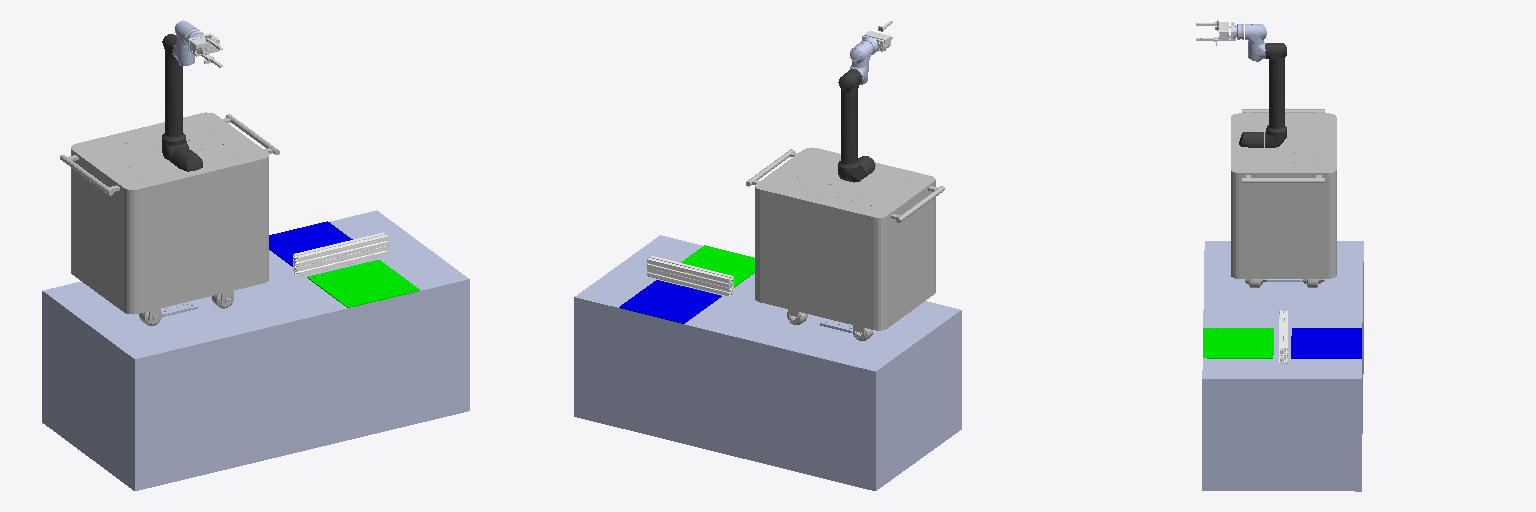
URDF robot description (keti_robot_description):
<?xml version="1.0" encoding="utf-8" ?>
<!-- This URDF was automatically created by SolidWorks to URDF Exporter! Originally created by [author] ([email redacted]) 
     Commit Version: 1.6.0-4-g7f85cfe  Build Version: 1.6.7995.38578
     For more information, please see http://wiki.ros.org/sw_urdf_exporter -->
<robot name="keti_robot_description">
    <link name="base_link">
        <inertial>
            <origin xyz="-3.36085209448091E-05 0.000287133945830102 0.0438378188701482" rpy="0 0 0" />
            <mass value="2.2521398120105" />
            <inertia ixx="0.00610179258303705" ixy="5.05489141748032E-06" ixz="-2.06579698345411E-06" iyy="0.00603383821255677" iyz="-2.85749716627364E-06" izz="0.0086064928113372" />
        </inertial>
        <visual>
            <origin xyz="0 0 0" rpy="0 0 0" />
            <geometry>
                <mesh filename="package://keti_robot_description/meshes/base_link.STL" />
            </geometry>
            <material name="">
                <color rgba="0.8 0.8 0.8 1" />
            </material>
        </visual>
        <collision>
            <origin xyz="0 0 0" rpy="0 0 0" />
            <geometry>
                <mesh filename="package://keti_robot_description/meshes/base_link.STL" />
            </geometry>
        </collision>
    </link>
    <link name="link1">
        <inertial>
            <origin xyz="-0.000155570349547256 -0.0115300094964011 0.185903083989741" rpy="0 0 0" />
            <mass value="3.38715574374258" />
            <inertia ixx="0.00965712431607013" ixy="2.56211525076845E-06" ixz="-2.07308619063588E-06" iyy="0.00999757655610851" iyz="0.00227412857483655" izz="0.0098539484036096" />
        </inertial>
        <visual>
            <origin xyz="0 0 0" rpy="0 0 0" />
            <geometry>
                <mesh filename="package://keti_robot_description/meshes/link1.STL" />
            </geometry>
            <material name="">
                <color rgba="0.792156862745098 0.819607843137255 0.933333333333333 1" />
            </material>
        </visual>
        <collision>
            <origin xyz="0 0 0" rpy="0 0 0" />
            <geometry>
                <mesh filename="package://keti_robot_description/meshes/link1.STL" />
            </geometry>
        </collision>
    </link>
    <joint name="q1" type="revolute">
        <origin xyz="0 0 0" rpy="0 0 0" />
        <parent link="base_link" />
        <child link="link1" />
        <axis xyz="0 0 1" />
        <limit lower="-3.15" upper="3.15" effort="10" velocity="100" />
    </joint>
    <link name="link2">
        <inertial>
            <origin xyz="-5.04053708179734E-05 -0.255908615808748 -0.18209452458773" rpy="0 0 0" />
            <mass value="10.3635830804756" />
            <inertia ixx="0.120627050730748" ixy="2.66500240762151E-06" ixz="2.14328350300721E-06" iyy="0.0227437611612611" iyz="-0.00160299836352993" izz="0.120841706515207" />
        </inertial>
        <visual>
            <origin xyz="0 0 0" rpy="0 0 0" />
            <geometry>
                <mesh filename="package://keti_robot_description/meshes/link2.STL" />
            </geometry>
            <material name="">
                <color rgba="0.294117647058824 0.294117647058824 0.294117647058824 1" />
            </material>
        </visual>
        <collision>
            <origin xyz="0 0 0" rpy="0 0 0" />
            <geometry>
                <mesh filename="package://keti_robot_description/meshes/link2.STL" />
            </geometry>
        </collision>
    </link>
    <joint name="q2" type="revolute">
        <origin xyz="0 0 0.198" rpy="-1.5708 0 0" />
        <parent link="link1" />
        <child link="link2" />
        <axis xyz="0 0 1" />
        <limit lower="-3.15" upper="3.15" effort="10" velocity="100" />
    </joint>
    <link name="link3">
        <inertial>
            <origin xyz="0.266215153303307 1.24415125219574E-07 0.143135454095261" rpy="0 0 0" />
            <mass value="5.05083810344374" />
            <inertia ixx="0.00628903769306436" ixy="9.83217919871376E-09" ixz="-0.000370527100010162" iyy="0.0617567752123527" iyz="4.19384943060267E-10" izz="0.0618362132215415" />
        </inertial>
        <visual>
            <origin xyz="0 0 0" rpy="0 0 0" />
            <geometry>
                <mesh filename="package://keti_robot_description/meshes/link3.STL" />
            </geometry>
            <material name="">
                <color rgba="0.294117647058824 0.294117647058824 0.294117647058824 1" />
            </material>
        </visual>
        <collision>
            <origin xyz="0 0 0" rpy="0 0 0" />
            <geometry>
                <mesh filename="package://keti_robot_description/meshes/link3.STL" />
            </geometry>
        </collision>
    </link>
    <joint name="q3" type="revolute">
        <origin xyz="0 -0.6127 -0.1875" rpy="0 0 -1.5708" />
        <parent link="link2" />
        <child link="link3" />
        <axis xyz="0 0 1" />
        <limit lower="-3.15" upper="3.15" effort="10" velocity="100" />
    </joint>
    <link name="link4">
        <inertial>
            <origin xyz="0.00564731922968353 -2.03785547391727E-07 -0.11129418881876" rpy="0 0 0" />
            <mass value="0.809634503765035" />
            <inertia ixx="0.000806283837275996" ixy="-1.71867704059923E-08" ixz="0.000215199707058614" iyy="0.000838077342386081" iyz="-7.62900079675169E-09" izz="0.000881367462526004" />
        </inertial>
        <visual>
            <origin xyz="0 0 0" rpy="0 0 0" />
            <geometry>
                <mesh filename="package://keti_robot_description/meshes/link4.STL" />
            </geometry>
            <material name="">
                <color rgba="0.792156862745098 0.819607843137255 0.933333333333333 1" />
            </material>
        </visual>
        <collision>
            <origin xyz="0 0 0" rpy="0 0 0" />
            <geometry>
                <mesh filename="package://keti_robot_description/meshes/link4.STL" />
            </geometry>
        </collision>
    </link>
    <joint name="q4" type="revolute">
        <origin xyz="0.57015 0 0.1484" rpy="0 0 0" />
        <parent link="link3" />
        <child link="link4" />
        <axis xyz="0 0 1" />
        <limit lower="-3.15" upper="3.15" effort="10" velocity="100" />
    </joint>
    <link name="link5">
        <inertial>
            <origin xyz="4.63101048859341E-05 -0.00651524423591263 0.11138476672215" rpy="0 0 0" />
            <mass value="0.822358154530824" />
            <inertia ixx="0.000866973842392845" ixy="3.12657392663225E-07" ixz="-1.57214298672093E-06" iyy="0.000822010875326482" iyz="0.000222517239579132" izz="0.00090768237706164" />
        </inertial>
        <visual>
            <origin xyz="0 0 0" rpy="0 0 0" />
            <geometry>
                <mesh filename="package://keti_robot_description/meshes/link5.STL" />
            </geometry>
            <material name="">
                <color rgba="0.792156862745098 0.819607843137255 0.933333333333333 1" />
            </material>
        </visual>
        <collision>
            <origin xyz="0 0 0" rpy="0 0 0" />
            <geometry>
                <mesh filename="package://keti_robot_description/meshes/link5.STL" />
            </geometry>
        </collision>
    </link>
    <joint name="q5" type="revolute">
        <origin xyz="0 0 -0.11715" rpy="1.5708 0.0070497 1.5708" />
        <parent link="link4" />
        <child link="link5" />
        <axis xyz="0 0 1" />
        <limit lower="-3.15" upper="3.15" effort="10" velocity="100" />
    </joint>
    <link name="link6">
        <inertial>
            <origin xyz="-2.6624035920006E-07 -0.000235268346064688 -0.0906803368507646" rpy="0 0 0" />
            <mass value="0.23767801504912" />
            <inertia ixx="0.000145950225567596" ixy="-1.22777307820616E-09" ixz="-7.02444790603633E-10" iyy="0.000148314460562859" iyz="5.77656415906496E-07" izz="0.000234953702007301" />
        </inertial>
        <visual>
            <origin xyz="0 0 0" rpy="0 0 0" />
            <geometry>
                <mesh filename="package://keti_robot_description/meshes/link6.STL" />
            </geometry>
            <material name="">
                <color rgba="0.792156862745098 0.819607843137255 0.933333333333333 1" />
            </material>
        </visual>
        <collision>
            <origin xyz="0 0 0" rpy="0 0 0" />
            <geometry>
                <mesh filename="package://keti_robot_description/meshes/link6.STL" />
            </geometry>
        </collision>
    </link>
    <joint name="q6" type="revolute">
        <origin xyz="0 0 0.11715" rpy="-1.5708 0 0.0070497" />
        <parent link="link5" />
        <child link="link6" />
        <axis xyz="0 0 1" />
        <limit lower="-3.15" upper="3.15" effort="10" velocity="100" />
    </joint>
    <link name="gripper_body">
        <inertial>
            <origin xyz="0.000964497686721692 -0.0461987659883821 0.000126614316610318" rpy="0 0 0" />
            <mass value="0.833018335285825" />
            <inertia ixx="0.00035744407226028" ixy="-7.87184581147048E-06" ixz="-7.44634053674841E-07" iyy="0.00141010572775022" iyz="6.64227935729311E-08" izz="0.00118048682314224" />
        </inertial>
        <visual>
            <origin xyz="0 0 0" rpy="0 0 0" />
            <geometry>
                <mesh filename="package://keti_robot_description/meshes/gripper_body.STL" />
            </geometry>
            <material name="">
                <color rgba="0.898039215686275 0.917647058823529 0.929411764705882 1" />
            </material>
        </visual>
        <collision>
            <origin xyz="0 0 0" rpy="0 0 0" />
            <geometry>
                <mesh filename="package://keti_robot_description/meshes/gripper_body.STL" />
            </geometry>
        </collision>
    </link>
    <joint name="link6_gripper_fixed" type="fixed">
        <origin xyz="0 0 -0.1148" rpy="1.5708 0.0070497 0" />
        <parent link="link6" />
        <child link="gripper_body" />
        <axis xyz="0 0 0" />
        <limit lower="-3.15" upper="3.15" effort="10" velocity="100" />
    </joint>
    <link name="gripper_tool1">
        <inertial>
            <origin xyz="-0.000187095087317513 -0.00839540838169445 0.0503901981194651" rpy="0 0 0" />
            <mass value="0.0524980209707732" />
            <inertia ixx="4.33143562379135E-06" ixy="3.76648518766476E-08" ixz="9.29191075202578E-08" iyy="5.26806301784343E-06" iyz="-9.16328438600956E-07" izz="4.96961994940066E-06" />
        </inertial>
        <visual>
            <origin xyz="0 0 0" rpy="0 0 0" />
            <geometry>
                <mesh filename="package://keti_robot_description/meshes/gripper_tool1.STL" />
            </geometry>
            <material name="">
                <color rgba="0.650980392156863 0.619607843137255 0.588235294117647 1" />
            </material>
        </visual>
        <collision>
            <origin xyz="0 0 0" rpy="0 0 0" />
            <geometry>
                <mesh filename="package://keti_robot_description/meshes/gripper_tool1.STL" />
            </geometry>
        </collision>
    </link>
    <joint name="slide_finger1" type="prismatic">
        <origin xyz="0.00068029 -0.096498 0" rpy="-3.1345 -1.5708 3.1416" />
        <parent link="gripper_body" />
        <child link="gripper_tool1" />
        <axis xyz="0 0 -1" />
        <limit lower="0" upper="0.04" effort="10" velocity="100" />
    </joint>
    <link name="gripper_finger1">
        <inertial>
            <origin xyz="-1.89563253982783E-10 -0.0898683983369567 0.0468507894853555" rpy="0 0 0" />
            <mass value="0.0694658380950057" />
            <inertia ixx="0.000232702275402011" ixy="4.53198492623508E-13" ixz="2.61266890896669E-14" iyy="3.23864994331891E-06" iyz="-5.91510564750317E-06" izz="0.000233913802492912" />
        </inertial>
        <visual>
            <origin xyz="0 0 0" rpy="0 0 0" />
            <geometry>
                <mesh filename="package://keti_robot_description/meshes/gripper_finger1.STL" />
            </geometry>
            <material name="">
                <color rgba="0.898039215686275 0.917647058823529 0.929411764705882 1" />
            </material>
        </visual>
        <collision>
            <origin xyz="0 0 0" rpy="0 0 0" />
            <geometry>
                <mesh filename="package://keti_robot_description/meshes/gripper_finger1.STL" />
            </geometry>
        </collision>
    </link>
    <joint name="tool_finger1_fixed" type="fixed">
        <origin xyz="0 0 0" rpy="0 0 0" />
        <parent link="gripper_tool1" />
        <child link="gripper_finger1" />
        <axis xyz="0 0 0" />
    </joint>
    <link name="gripper_tool2">
        <inertial>
            <origin xyz="0.000187095087317068 -0.00839540838169439 -0.0503901981194645" rpy="0 0 0" />
            <mass value="0.0524980209707734" />
            <inertia ixx="4.33143562379135E-06" ixy="-3.76648518766326E-08" ixz="9.29191075202769E-08" iyy="5.26806301784346E-06" iyz="9.1632843860095E-07" izz="4.96961994940069E-06" />
        </inertial>
        <visual>
            <origin xyz="0 0 0" rpy="0 0 0" />
            <geometry>
                <mesh filename="package://keti_robot_description/meshes/gripper_tool2.STL" />
            </geometry>
            <material name="">
                <color rgba="0.650980392156863 0.619607843137255 0.588235294117647 1" />
            </material>
        </visual>
        <collision>
            <origin xyz="0 0 0" rpy="0 0 0" />
            <geometry>
                <mesh filename="package://keti_robot_description/meshes/gripper_tool2.STL" />
            </geometry>
        </collision>
    </link>
    <joint name="slide_finger2" type="prismatic">
        <origin xyz="0.000680292998159457 -0.0964976020501893 0" rpy="-3.13454292682163 -1.57079631189374 3.14159265358979" />
        <parent link="gripper_body" />
        <child link="gripper_tool2" />
        <axis xyz="0 0 1" />
        <limit lower="0" upper="0.04" effort="10" velocity="100" />
    </joint>
    <link name="gripper_finger2">
        <inertial>
            <origin xyz="1.88546733781436E-10 -0.0898683983348695 -0.0468507894819098" rpy="0 0 0" />
            <mass value="0.0694658380901624" />
            <inertia ixx="0.000232702275371426" ixy="-4.50738185052233E-13" ixz="2.43052739804296E-14" iyy="3.2386499418736E-06" iyz="5.91510564337428E-06" izz="0.000233913802462028" />
        </inertial>
        <visual>
            <origin xyz="0 0 0" rpy="0 0 0" />
            <geometry>
                <mesh filename="package://keti_robot_description/meshes/gripper_finger2.STL" />
            </geometry>
            <material name="">
                <color rgba="0.898039215686275 0.917647058823529 0.929411764705882 1" />
            </material>
        </visual>
        <collision>
            <origin xyz="0 0 0" rpy="0 0 0" />
            <geometry>
                <mesh filename="package://keti_robot_description/meshes/gripper_finger2.STL" />
            </geometry>
        </collision>
    </link>
    <joint name="tool_finger2_fixed" type="fixed">
        <origin xyz="0 0 0" rpy="0 0 0" />
        <parent link="gripper_tool2" />
        <child link="gripper_finger2" />
        <axis xyz="0 0 0" />
    </joint>
    <link name="base">
        <inertial>
            <origin xyz="0.475174185624575 -0.00377341181843176 -0.364821241376075" rpy="0 0 0" />
            <mass value="1166.08310054465" />
            <inertia ixx="126.277054980318" ixy="1.78873159404682" ixz="-6.79491049178361E-14" iyy="379.990896927337" iyz="1.04270672445908E-16" izz="411.085430048862" />
        </inertial>
        <visual>
            <origin xyz="0 0 0" rpy="0 0 0" />
            <geometry>
                <mesh filename="package://keti_robot_description/meshes/base.STL" />
            </geometry>
            <material name="">
                <color rgba="0.792156862745098 0.819607843137255 0.933333333333333 1" />
            </material>
        </visual>
        <collision>
            <origin xyz="0 0 0" rpy="0 0 0" />
            <geometry>
                <mesh filename="package://keti_robot_description/meshes/base.STL" />
            </geometry>
        </collision>
    </link>
    <joint name="base_fixed" type="fixed">
        <origin xyz="0 0 0" rpy="0 0 0" />
        <parent link="base_link" />
        <child link="base" />
        <axis xyz="0 0 0" />
        <limit lower="0" upper="0" effort="0" velocity="0" />
    </joint>
    <link name="plate_pick">
        <inertial>
            <origin xyz="0.926490060276359 -0.256961331374575 -0.0125000000002192" rpy="0 0 0" />
            <mass value="0.797947283360143" />
            <inertia ixx="0.010615722604423" ixy="1.26919416816773E-17" ixz="2.64712336886471E-15" iyy="0.010615722604423" iyz="-2.59446079949759E-17" izz="0.0212281204284986" />
        </inertial>
        <visual>
            <origin xyz="0 0 0" rpy="0 0 0" />
            <geometry>
                <mesh filename="package://keti_robot_description/meshes/plate_pick.STL" />
            </geometry>
            <material name="">
                <color rgba="0 1 0 1" />
            </material>
        </visual>
        <collision>
            <origin xyz="0 0 0" rpy="0 0 0" />
            <geometry>
                <mesh filename="package://keti_robot_description/meshes/plate_pick.STL" />
            </geometry>
        </collision>
    </link>
    <joint name="base_plate_pick_fixed" type="fixed">
        <origin xyz="0 0 0" rpy="0 0 0" />
        <parent link="base_link" />
        <child link="plate_pick" />
        <axis xyz="0 0 0" />
    </joint>
    <link name="plate_place">
        <inertial>
            <origin xyz="0.930014894853705 0.243026244012161 -0.0125000000004366" rpy="0 0 0" />
            <mass value="0.797947283360145" />
            <inertia ixx="0.010615722604423" ixy="2.16840434498881E-18" ixz="2.64695266744577E-15" iyy="0.010615722604423" iyz="-1.75278270782062E-16" izz="0.0212281204284986" />
        </inertial>
        <visual>
            <origin xyz="0 0 0" rpy="0 0 0" />
            <geometry>
                <mesh filename="package://keti_robot_description/meshes/plate_place.STL" />
            </geometry>
            <material name="">
                <color rgba="0 0 1 1" />
            </material>
        </visual>
        <collision>
            <origin xyz="0 0 0" rpy="0 0 0" />
            <geometry>
                <mesh filename="package://keti_robot_description/meshes/plate_place.STL" />
            </geometry>
        </collision>
    </link>
    <joint name="base_plate_place_fixed" type="fixed">
        <origin xyz="0 0 0" rpy="0 0 0" />
        <parent link="base_link" />
        <child link="plate_place" />
        <axis xyz="0 0 0" />
    </joint>
    <link name="obstacle">
        <inertial>
            <origin xyz="0.947644597488781 -0.00105915977649695 0.0349999999997669" rpy="0 0 0" />
            <mass value="2.99739905159225" />
            <inertia ixx="0.00140388130169823" ixy="0.000435273876309154" ixz="1.5429290968821E-14" iyy="0.0631431513060792" iyz="-1.09490622164355E-16" izz="0.0631462199191515" />
        </inertial>
        <visual>
            <origin xyz="0 0 0" rpy="0 0 0" />
            <geometry>
                <mesh filename="package://keti_robot_description/meshes/obstacle.STL" />
            </geometry>
            <material name="">
                <color rgba="1 1 1 1" />
            </material>
        </visual>
        <collision>
            <origin xyz="0 0 0" rpy="0 0 0" />
            <geometry>
                <mesh filename="package://keti_robot_description/meshes/obstacle.STL" />
            </geometry>
        </collision>
    </link>
    <joint name="base_obstacle_fixed" type="fixed">
        <origin xyz="0 0 0" rpy="0 0 0" />
        <parent link="base_link" />
        <child link="obstacle" />
        <axis xyz="0 0 0" />
    </joint>
    <transmission name="trans_q1">
        <type>transmission_interface/SimpleTransmission</type>
        <joint name="q1">
            <hardwareInterface>hardware_interface/PositionJointInterface</hardwareInterface>
        </joint>
        <actuator name="q1_motor">
            <hardwareInterface>hardware_interface/PositionJointInterface</hardwareInterface>
            <mechanicalReduction>1</mechanicalReduction>
        </actuator>
    </transmission>
    <transmission name="trans_q2">
        <type>transmission_interface/SimpleTransmission</type>
        <joint name="q2">
            <hardwareInterface>hardware_interface/PositionJointInterface</hardwareInterface>
        </joint>
        <actuator name="q2_motor">
            <hardwareInterface>hardware_interface/PositionJointInterface</hardwareInterface>
            <mechanicalReduction>1</mechanicalReduction>
        </actuator>
    </transmission>
    <transmission name="trans_q3">
        <type>transmission_interface/SimpleTransmission</type>
        <joint name="q3">
            <hardwareInterface>hardware_interface/PositionJointInterface</hardwareInterface>
        </joint>
        <actuator name="q3_motor">
            <hardwareInterface>hardware_interface/PositionJointInterface</hardwareInterface>
            <mechanicalReduction>1</mechanicalReduction>
        </actuator>
    </transmission>
    <transmission name="trans_q4">
        <type>transmission_interface/SimpleTransmission</type>
        <joint name="q4">
            <hardwareInterface>hardware_interface/PositionJointInterface</hardwareInterface>
        </joint>
        <actuator name="q4_motor">
            <hardwareInterface>hardware_interface/PositionJointInterface</hardwareInterface>
            <mechanicalReduction>1</mechanicalReduction>
        </actuator>
    </transmission>
    <transmission name="trans_q5">
        <type>transmission_interface/SimpleTransmission</type>
        <joint name="q5">
            <hardwareInterface>hardware_interface/PositionJointInterface</hardwareInterface>
        </joint>
        <actuator name="q5_motor">
            <hardwareInterface>hardware_interface/PositionJointInterface</hardwareInterface>
            <mechanicalReduction>1</mechanicalReduction>
        </actuator>
    </transmission>
    <transmission name="trans_q6">
        <type>transmission_interface/SimpleTransmission</type>
        <joint name="q6">
            <hardwareInterface>hardware_interface/PositionJointInterface</hardwareInterface>
        </joint>
        <actuator name="q6_motor">
            <hardwareInterface>hardware_interface/PositionJointInterface</hardwareInterface>
            <mechanicalReduction>1</mechanicalReduction>
        </actuator>
    </transmission>
    <transmission name="trans_slide_finger1">
        <type>transmission_interface/SimpleTransmission</type>
        <joint name="slide_finger1">
            <hardwareInterface>hardware_interface/PositionJointInterface</hardwareInterface>
        </joint>
        <actuator name="slide_finger1_motor">
            <hardwareInterface>hardware_interface/PositionJointInterface</hardwareInterface>
            <mechanicalReduction>1</mechanicalReduction>
        </actuator>
    </transmission>
    <transmission name="trans_slide_finger2">
        <type>transmission_interface/SimpleTransmission</type>
        <joint name="slide_finger2">
            <hardwareInterface>hardware_interface/PositionJointInterface</hardwareInterface>
        </joint>
        <actuator name="slide_finger2_motor">
            <hardwareInterface>hardware_interface/PositionJointInterface</hardwareInterface>
            <mechanicalReduction>1</mechanicalReduction>
        </actuator>
    </transmission>
    <gazebo>
        <plugin name="gazebo_ros_control">
            <robotNamespace>/</robotNamespace>
        </plugin>
    </gazebo>
</robot>

--- Render facts (derived) ---
Views: 3 orthographic renders of the robot side by side, from view 1: azimuth 30°, elevation 25°; view 2: azimuth 150°, elevation 25°; view 3: azimuth 270°, elevation 25°.
Model keti_robot_description with 16 links and 15 joints (6 revolute, 2 prismatic, 7 fixed), rooted at base_link, posed every joint at zero.
Links seen in each view (by area): view 1: base, base_link, plate_pick, obstacle, link3, plate_place, link2; view 2: base, base_link, plate_place, link3, obstacle, plate_pick; view 3: base, base_link, plate_pick, plate_place, link3.
Link boxes in pixels (x1,y1,x2,y2): base: (42, 210, 469, 490); base_link: (60, 112, 279, 325); plate_pick: (307, 260, 419, 307); obstacle: (293, 232, 388, 276); link3: (162, 34, 188, 161); plate_place: (269, 221, 352, 266); link2: (171, 147, 202, 171); base: (574, 235, 961, 490); base_link: (746, 147, 944, 340); plate_place: (619, 280, 721, 323); link3: (838, 69, 864, 182); obstacle: (647, 256, 733, 295); plate_pick: (681, 245, 754, 287); base: (1202, 241, 1363, 491); base_link: (1231, 109, 1336, 287); plate_pick: (1203, 328, 1273, 358); plate_place: (1291, 328, 1361, 358); link3: (1265, 43, 1286, 147).
Size in the robot's own frame: 1.88 by 0.9481 by 2.28 metres.
Meshes: 16 distinct files referenced, 16 mesh visuals loaded (16 binary STL).